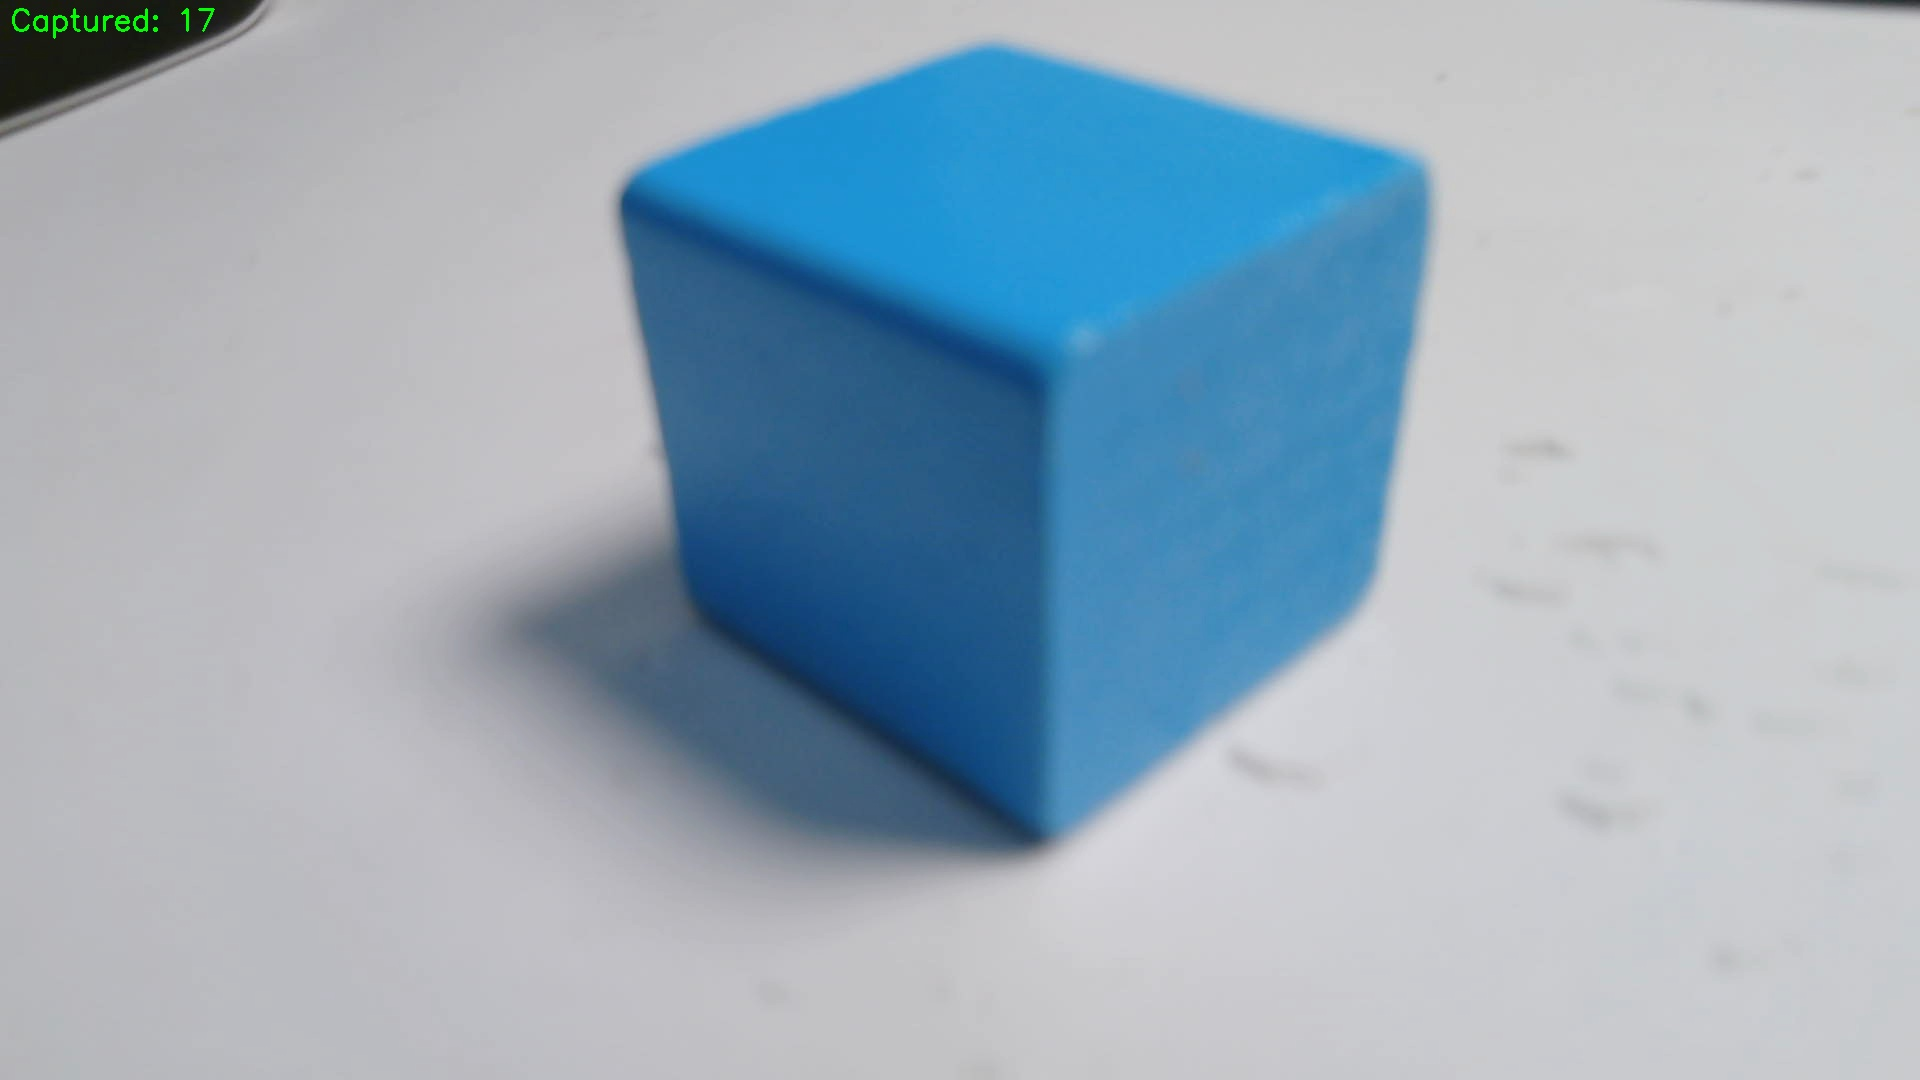blue: (618, 40, 1437, 837)
